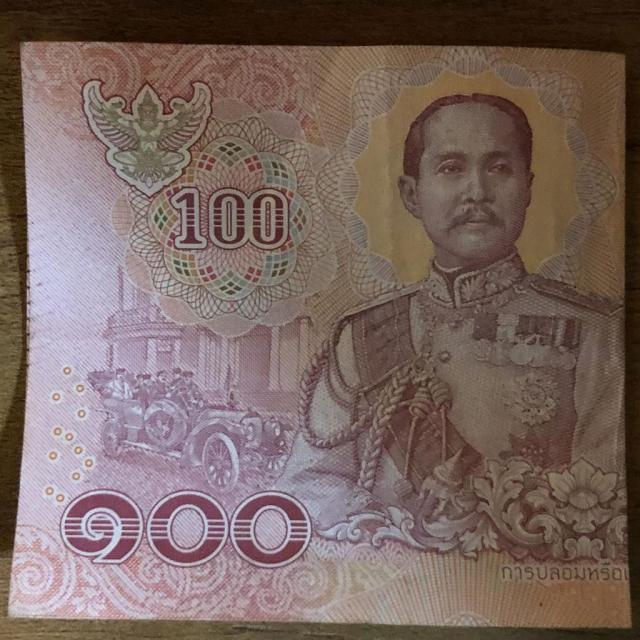THAI100: (9, 42, 632, 627)
